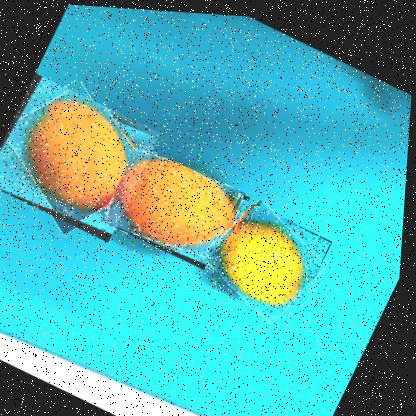orange: (0, 68, 167, 244), (101, 139, 256, 273), (200, 190, 338, 323)
